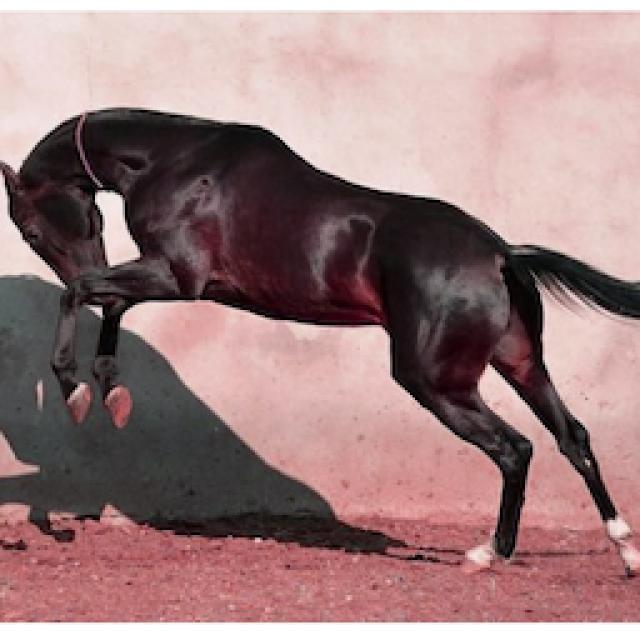Horse: (2, 98, 640, 580)
